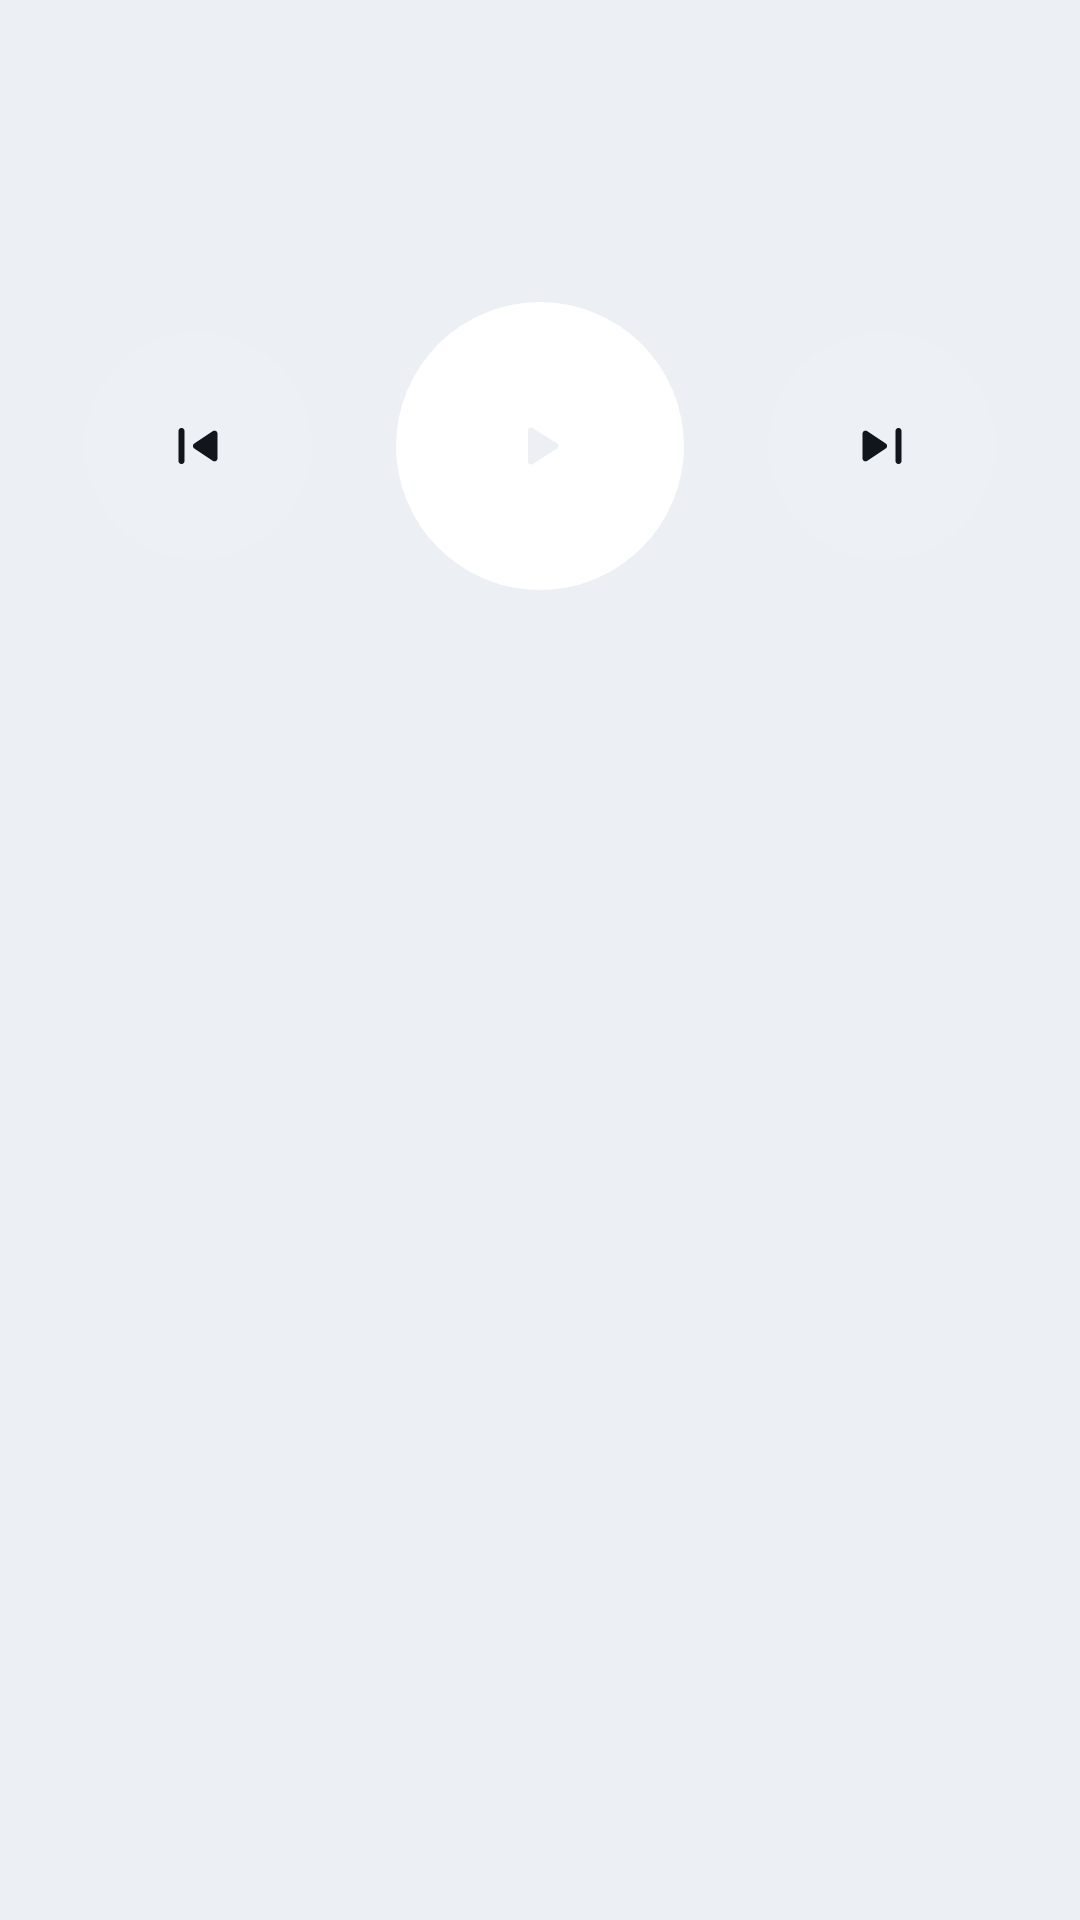

Named icons in this screenshot (1080w x 1920h) and their centers, (x=x, y=y):
Next track: (x=882, y=446)
skip previous: (x=198, y=446)
